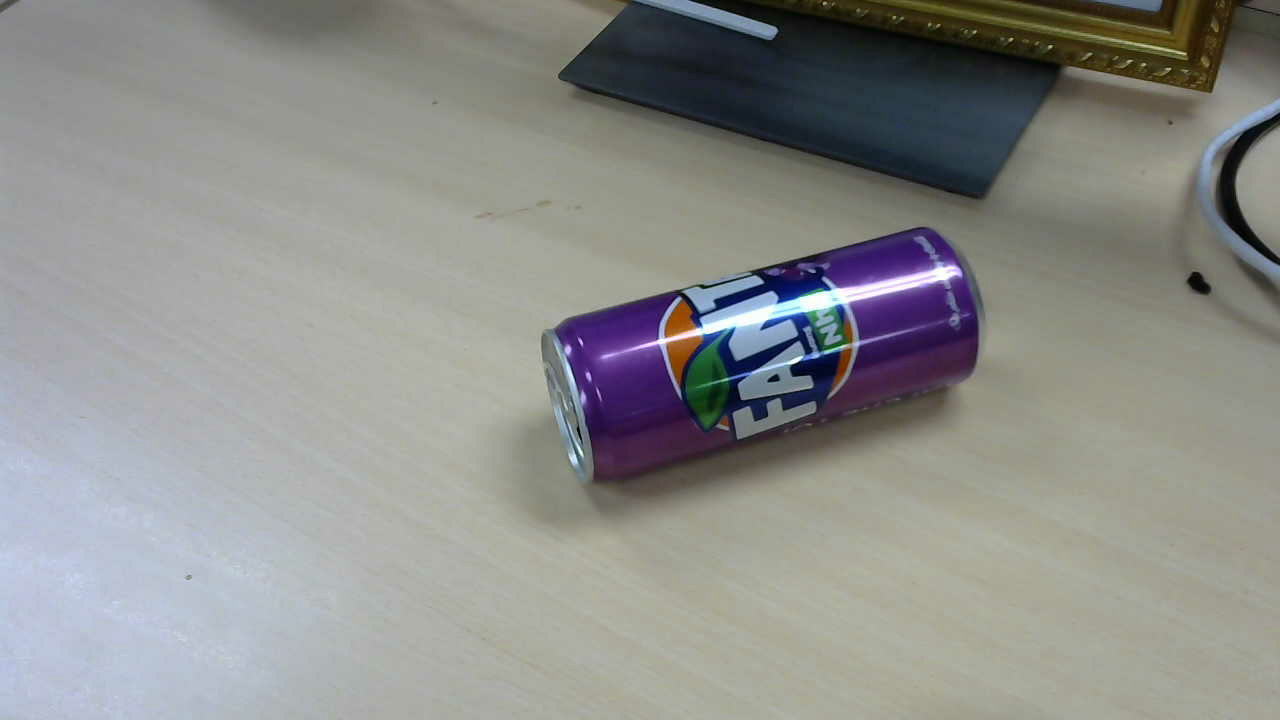Fanta: (545, 229, 986, 487)
